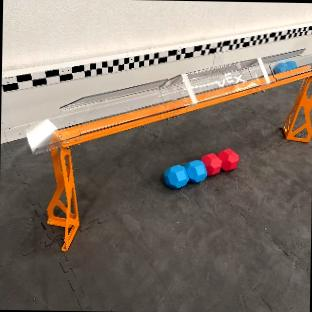V5_BLUE: (164, 160, 206, 187), (284, 60, 296, 68)
V5_RED: (201, 148, 238, 175)
